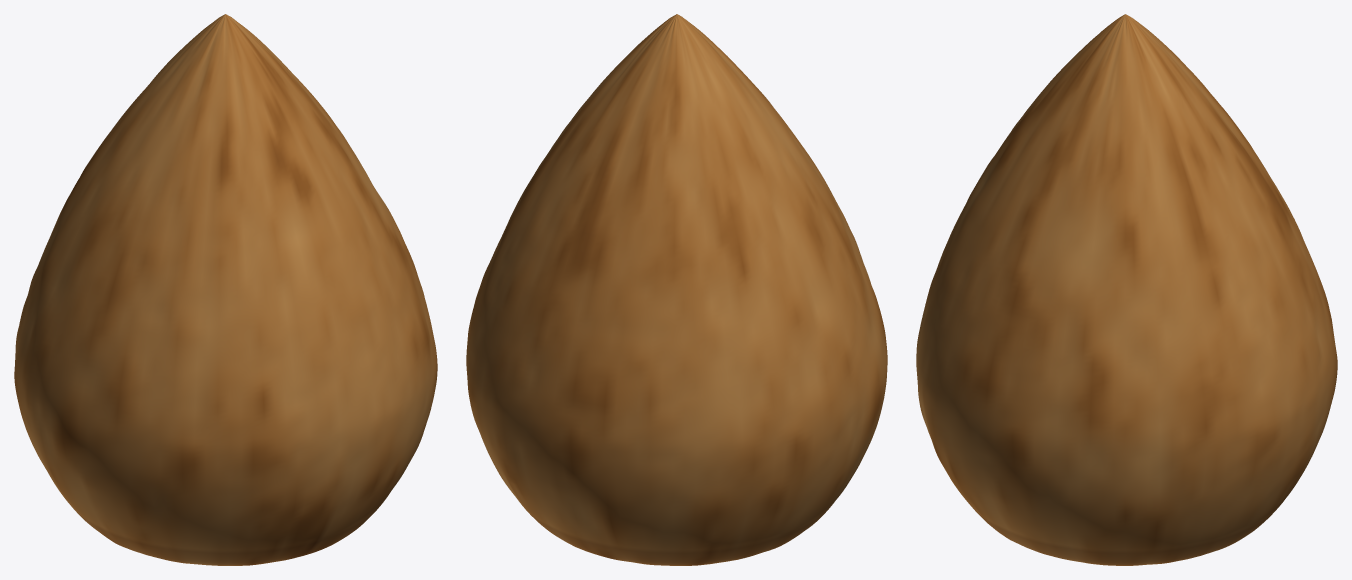
File: coxinha-demonstrativa.glb
3 renders of one model, left to right at view 1: azimuth 30°, elevation 25°; view 2: azimuth 150°, elevation 25°; view 3: azimuth 270°, elevation 25°, orthographic.
Parts seen in each view (by area): view 1: coxinha-demonstrativa; view 2: coxinha-demonstrativa; view 3: coxinha-demonstrativa.
Part boxes in pixels (x1,y1,x2,y2): coxinha-demonstrativa: (14,14,437,565); coxinha-demonstrativa: (466,14,887,565); coxinha-demonstrativa: (916,14,1337,565).
Size of the model in its own units: 0.0818 by 0.1066 by 0.082.
